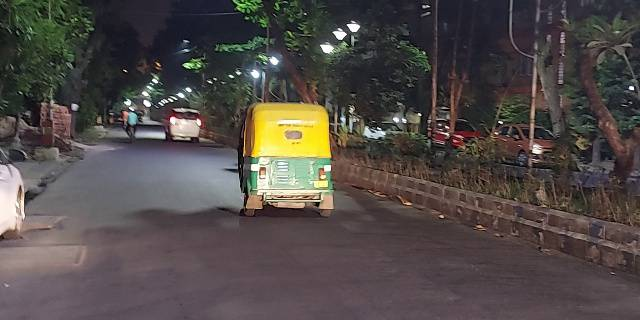Autorickshaw: (237, 102, 331, 218)
Car: (162, 107, 206, 143)
